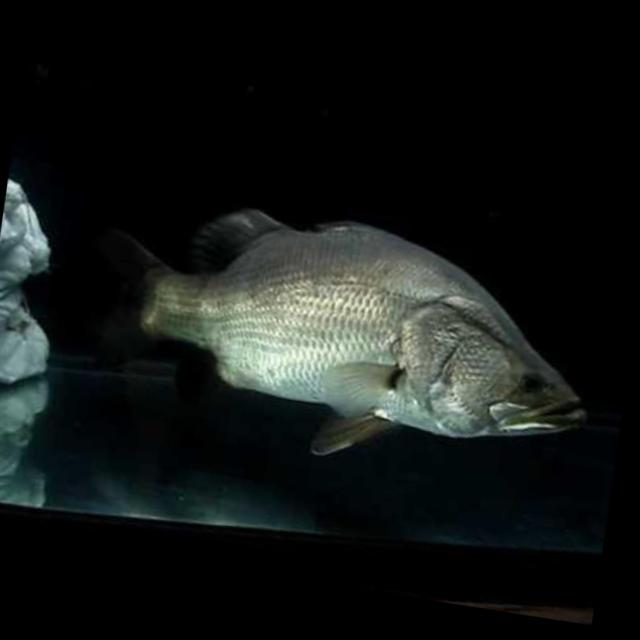Seabass: (74, 180, 615, 495)
